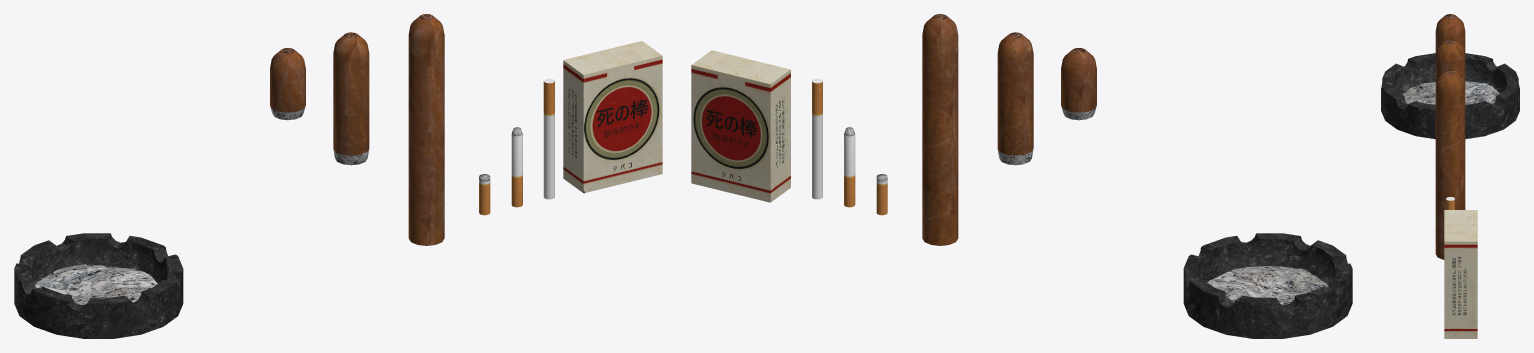
Rendered from SmokingStuff.fbx.
3 views of the same model, side by side, from view 1: azimuth 30°, elevation 25°; view 2: azimuth 150°, elevation 25°; view 3: azimuth 270°, elevation 25° (orthographic). The views are drawn at different scales.
Visible parts, largest first — view 1: Cube, Cylinder, Cylinder.004, Cylinder.005, Cylinder.007, Cylinder.006, Cylinder.001, Cylinder.002, Cylinder.003; view 2: Cube, Cylinder, Cylinder.004, Cylinder.005, Cylinder.007, Cylinder.006, Cylinder.001, Cylinder.002; view 3: Cylinder, Cylinder.004, Cube, Cylinder.007, Cylinder.005, Cylinder.006.
Boxes of the visible parts, x1,y1,x2,y2 form: Cube: [563, 41, 662, 193]; Cylinder: [14, 233, 183, 338]; Cylinder.004: [408, 14, 444, 245]; Cylinder.005: [333, 32, 369, 165]; Cylinder.007: [35, 264, 157, 304]; Cylinder.006: [270, 48, 305, 120]; Cylinder.001: [543, 78, 554, 199]; Cylinder.002: [511, 127, 522, 207]; Cylinder.003: [479, 174, 490, 215]; Cube: [691, 50, 790, 202]; Cylinder: [1183, 233, 1352, 338]; Cylinder.004: [922, 14, 958, 245]; Cylinder.005: [997, 32, 1033, 165]; Cylinder.007: [1207, 266, 1328, 304]; Cylinder.006: [1061, 48, 1096, 120]; Cylinder.001: [812, 78, 822, 199]; Cylinder.002: [844, 127, 855, 207]; Cylinder: [1381, 53, 1519, 139]; Cylinder.004: [1435, 69, 1465, 259]; Cube: [1444, 210, 1477, 338]; Cylinder.007: [1402, 81, 1499, 104]; Cylinder.005: [1435, 39, 1465, 85]; Cylinder.006: [1435, 14, 1465, 55].
Bounding box in the file's own units: 864 × 289 × 200.
